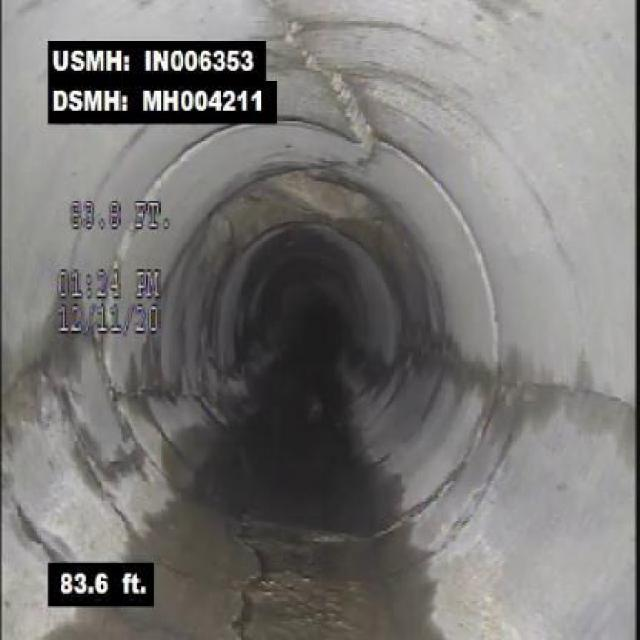Buckling: (296, 26, 390, 169)
Crack: (220, 506, 297, 639), (497, 363, 638, 419)
